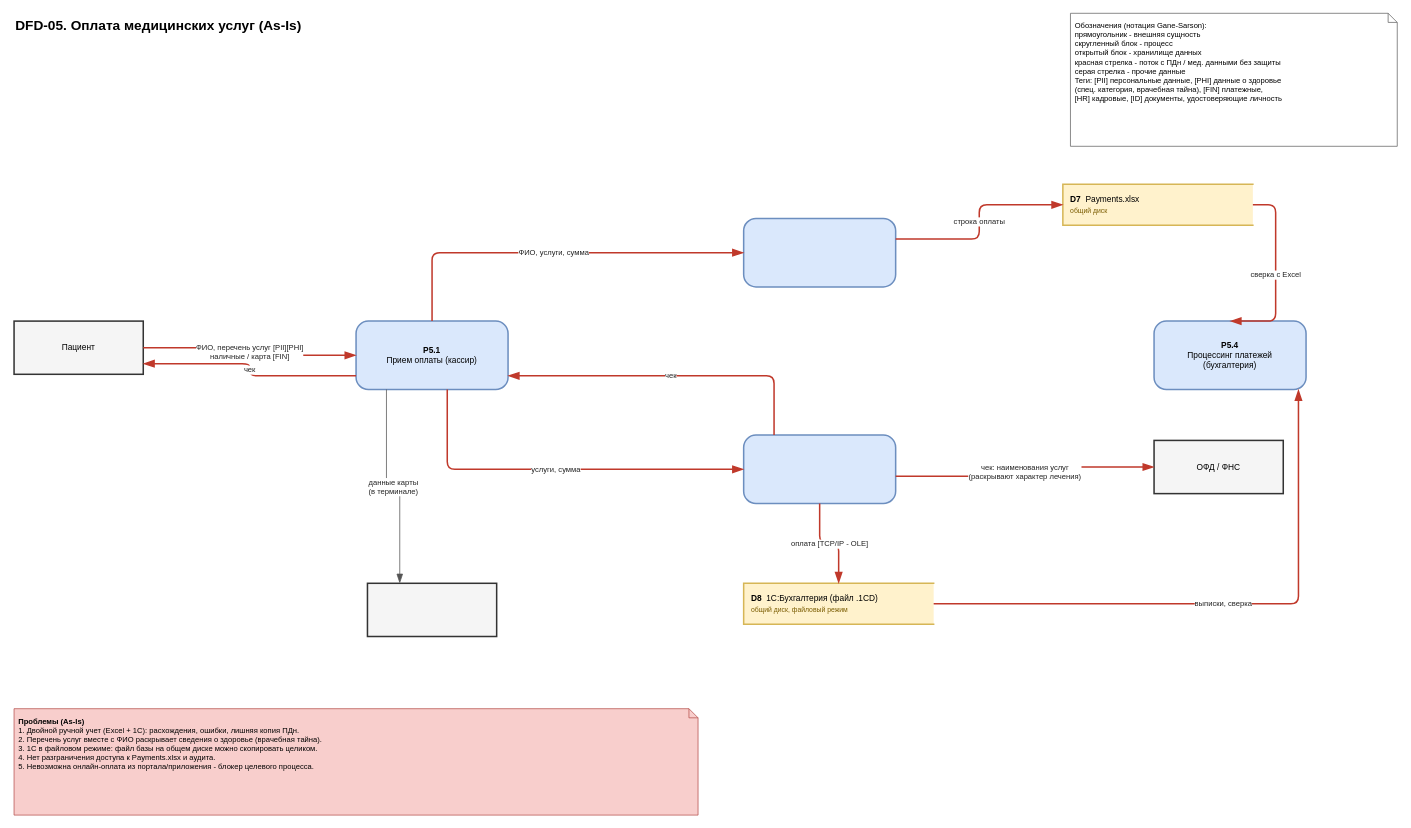
This 1411x828 diagram has some shape labels left out. Here are the shapes that lost their labels. From the top down, the centre of each, then its label:
At [819,252]: "P5.2 Двойной учет в Excel".
At [819,469]: "P5.3 Фискализация (ККМ)".
At [431,609]: "Банк-эквайер (POS-терминал)".
